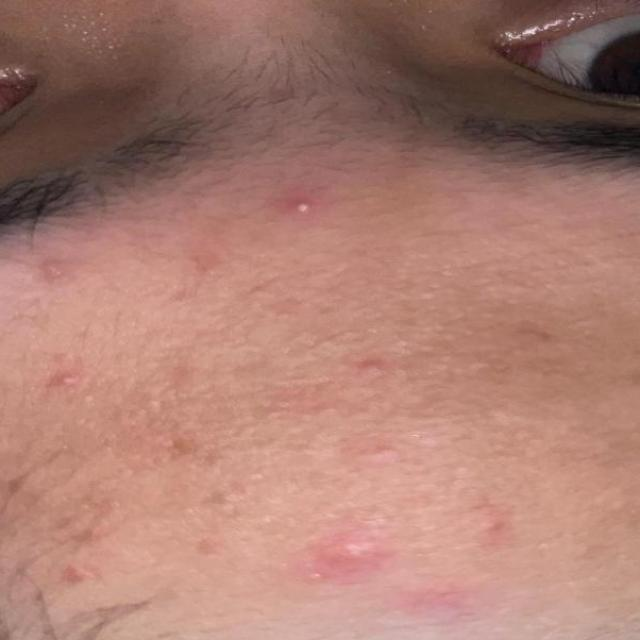papule: (256, 475, 587, 640)
pustule: (45, 357, 97, 399), (280, 186, 321, 226)
